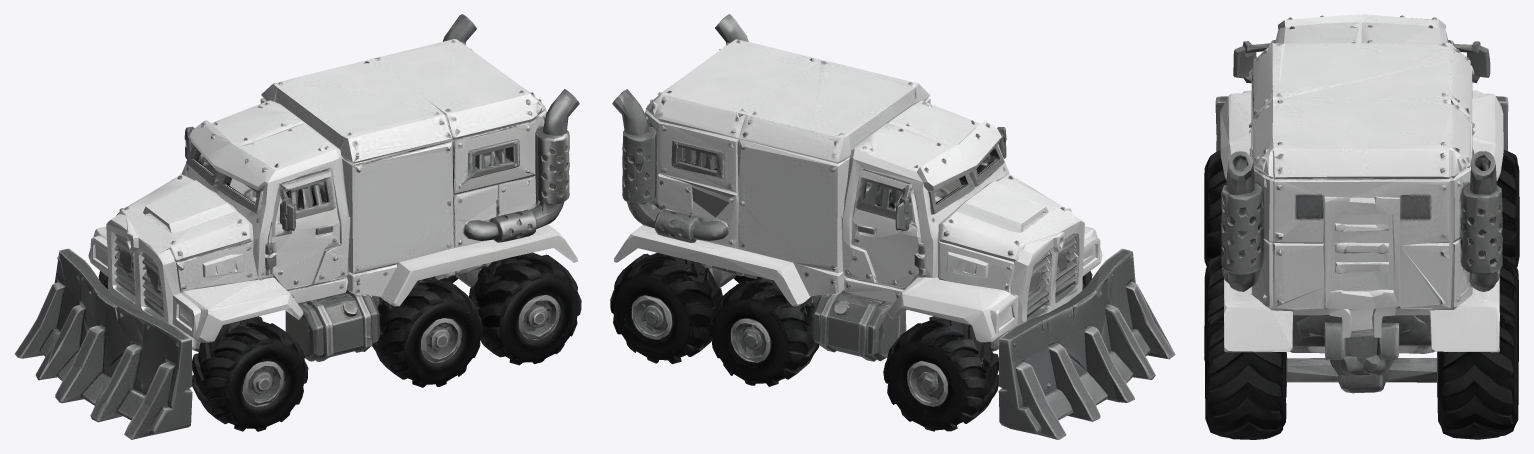
The model's file is foot_truck.glb.
3 renders of one model, left to right at view 1: azimuth 30°, elevation 25°; view 2: azimuth 150°, elevation 25°; view 3: azimuth 270°, elevation 25°, orthographic. The views are drawn at different scales.
Parts seen in each view (by area): view 1: Mesh_0; view 2: Mesh_0; view 3: Mesh_0.
Part boxes in pixels (x1=…): Mesh_0: x1=14, y1=14, x2=581, y2=439; Mesh_0: x1=610, y1=14, x2=1175, y2=439; Mesh_0: x1=1204, y1=14, x2=1519, y2=439.
Size of the model in its own units: 1.9 by 0.9928 by 0.9366.
1 material, 1 textured.
